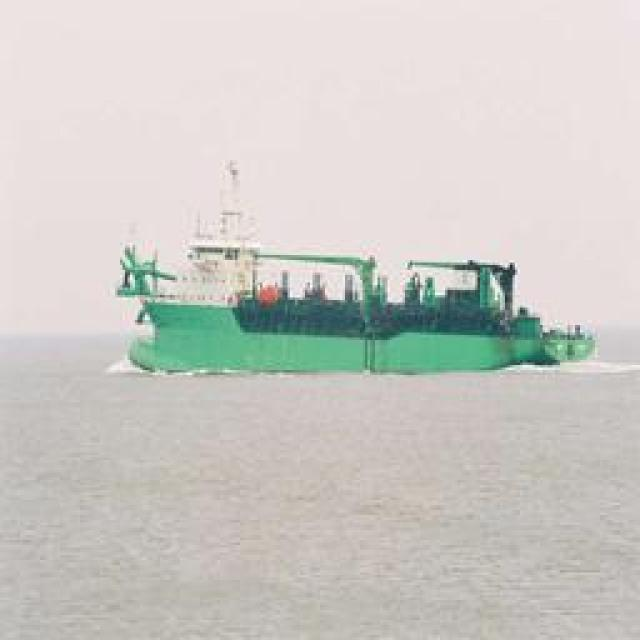ship2: (116, 158, 598, 376)
